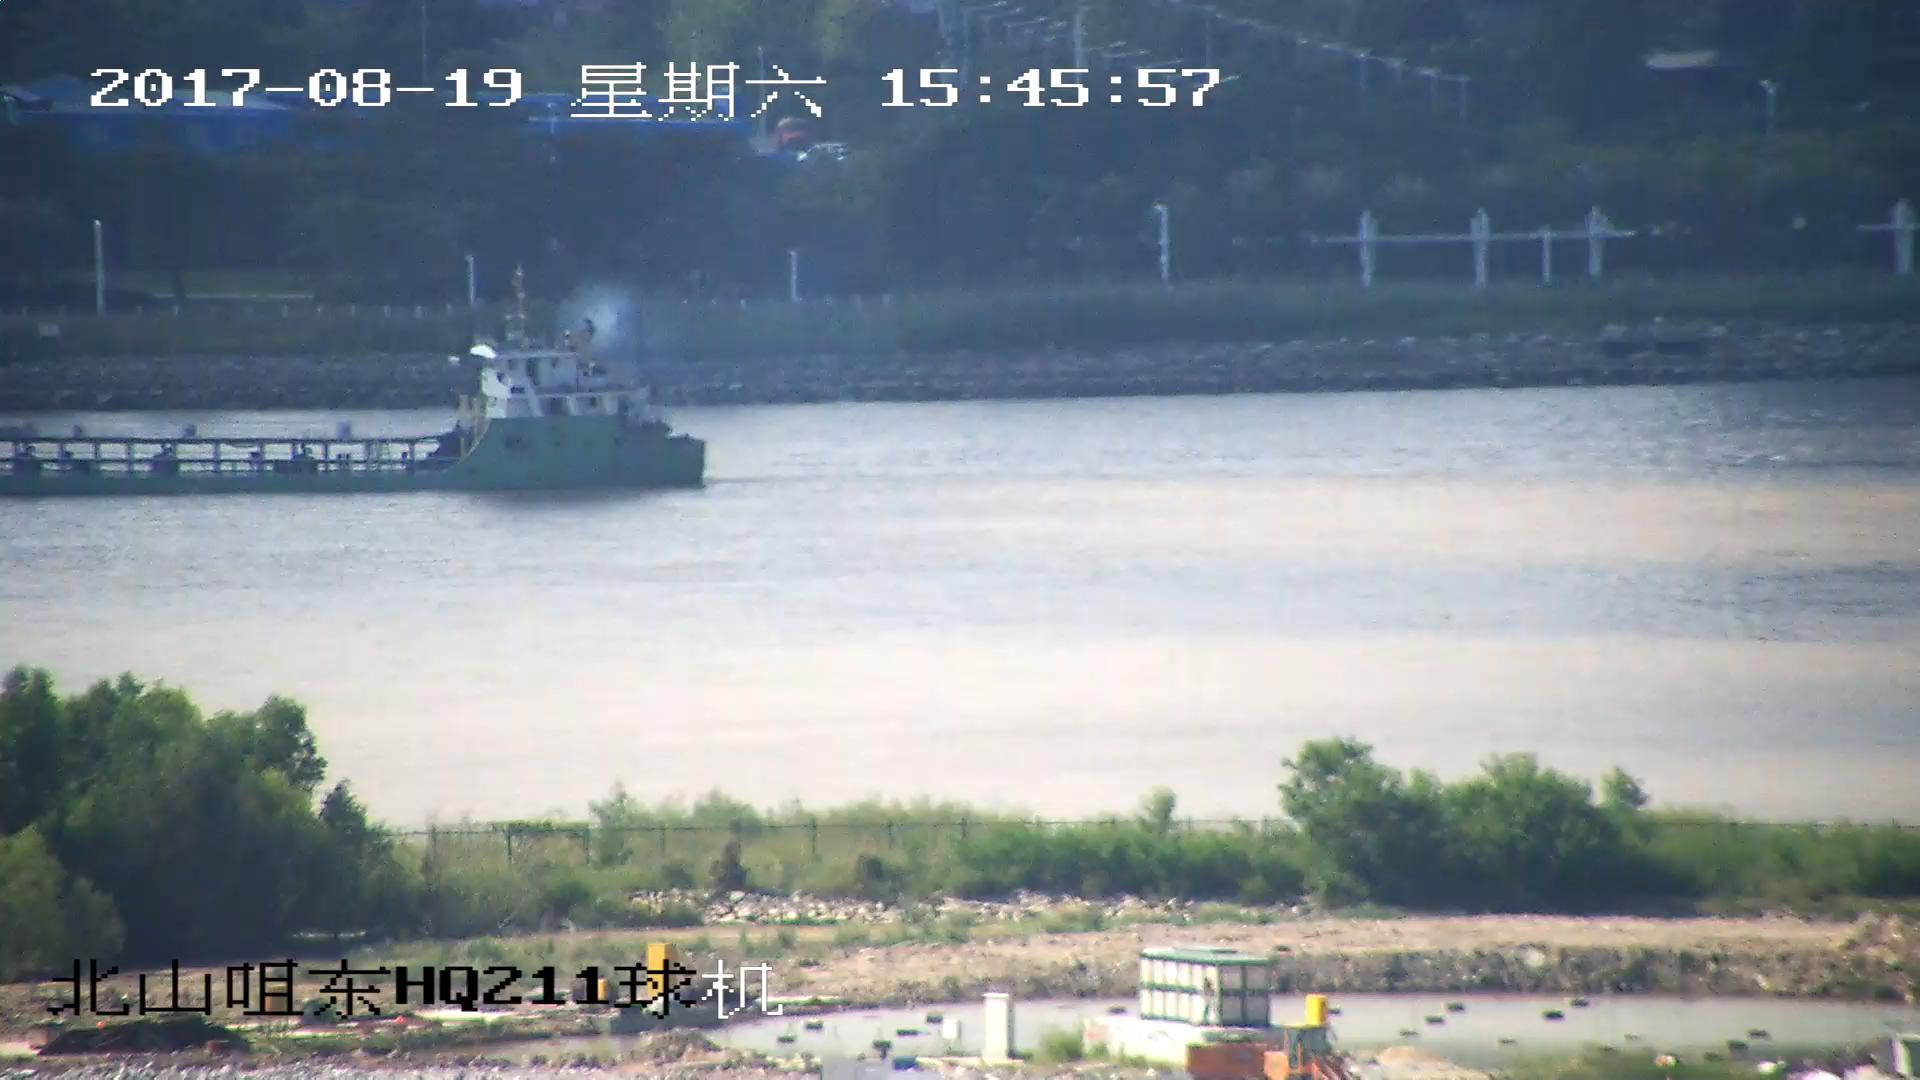Ship: (3, 270, 708, 495)
